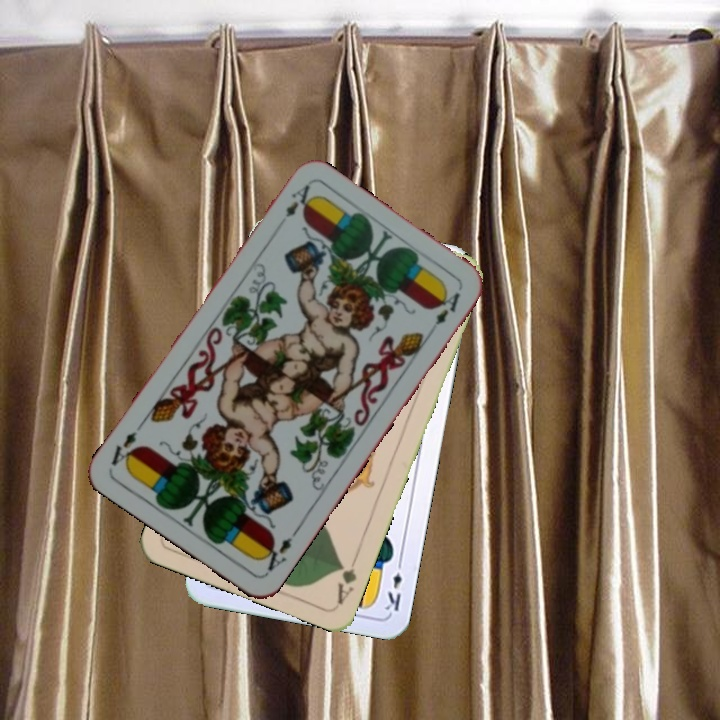EA: (257, 525, 301, 577), (281, 180, 314, 220)
EK: (381, 555, 405, 614)
GA: (333, 550, 362, 607)
